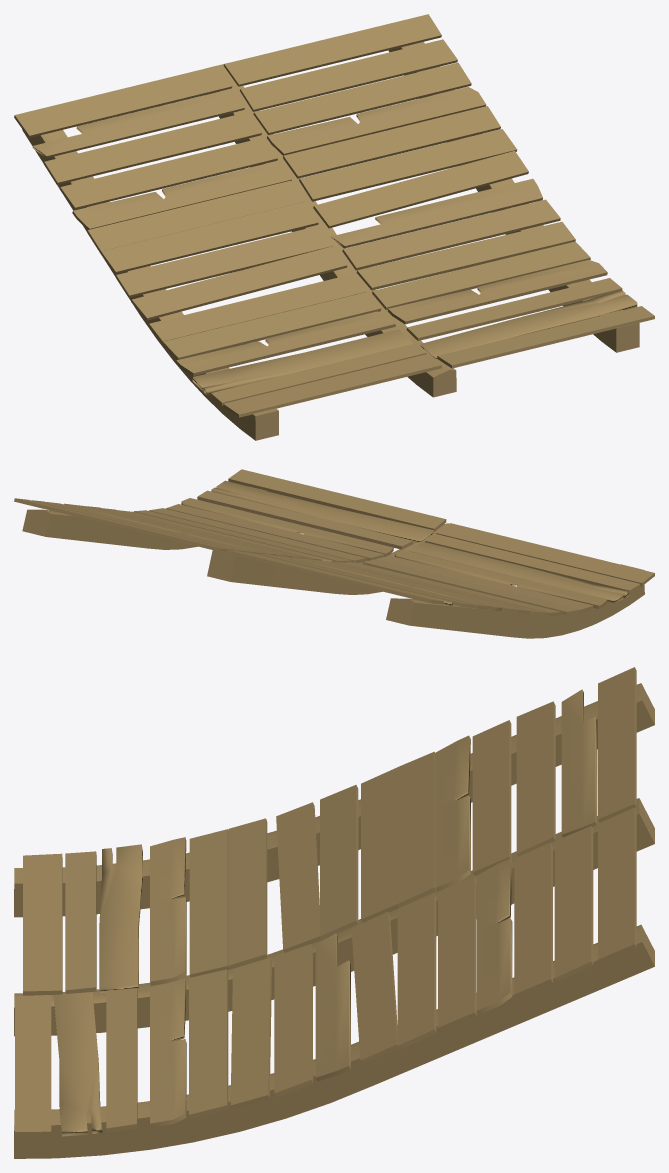
File: Road_Beam_Double_06.fbx
3 views of the same model, one above another, from view 1: azimuth 30°, elevation 25°; view 2: azimuth 150°, elevation 25°; view 3: azimuth 270°, elevation 25° (orthographic). The views are drawn at different scales.
Parts seen in each view (by area): view 1: Road_Beam_Double_06; view 2: Road_Beam_Double_06; view 3: Road_Beam_Double_06.
Boxes of the visible parts, bbox=[...] form: Road_Beam_Double_06: bbox=[14, 14, 654, 440]; Road_Beam_Double_06: bbox=[14, 469, 654, 638]; Road_Beam_Double_06: bbox=[14, 667, 654, 1158].
Size of the model in its own units: 296 by 111 by 286.
